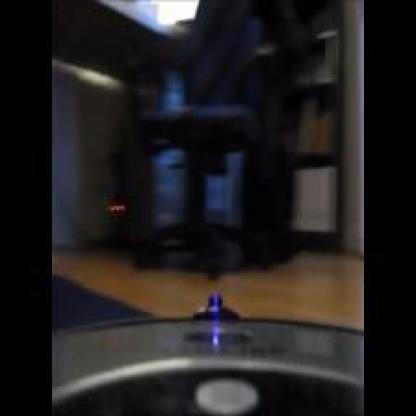other: (93, 195, 134, 240)
